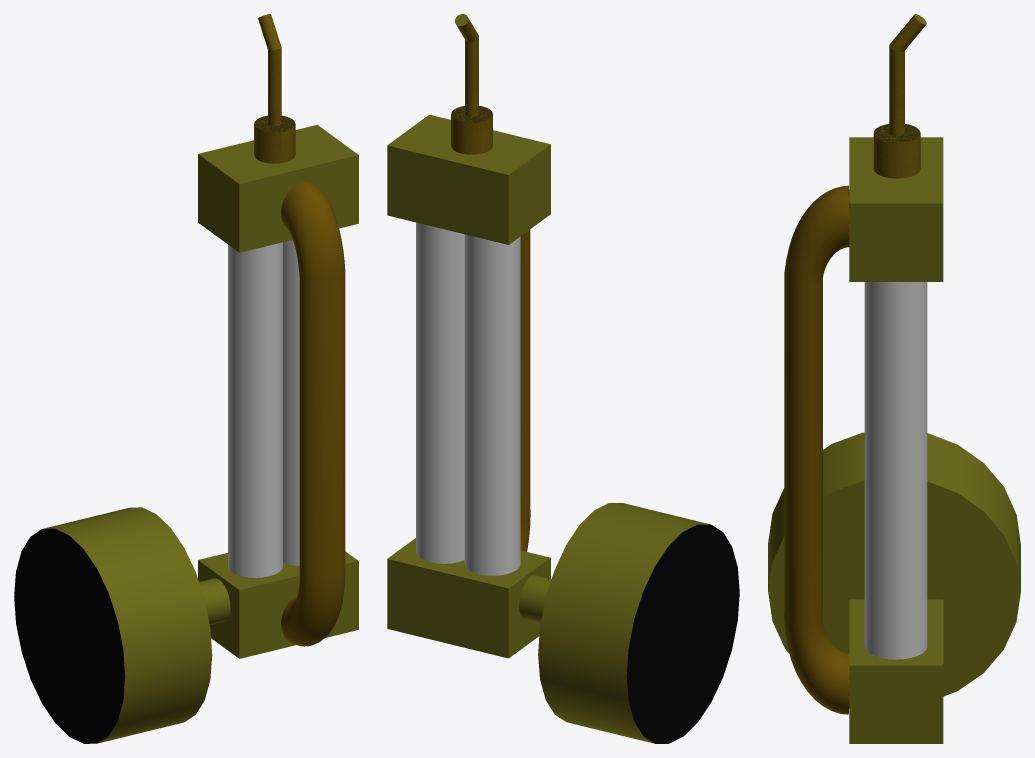
File: torch2.dae
3 views of the same model, side by side, from view 1: azimuth 30°, elevation 25°; view 2: azimuth 150°, elevation 25°; view 3: azimuth 270°, elevation 25° (orthographic). The views are drawn at different scales.
Visible parts, largest first — view 1: SketchUp (×9); view 2: SketchUp (×9); view 3: SketchUp (×8).
Part boxes in pixels (x1,y1,x2,y2): SketchUp (×9): [14, 14, 358, 743]; SketchUp (×9): [387, 18, 739, 743]; SketchUp (×8): [768, 15, 1020, 743].
Size of the model in its own units: 17.76 by 12.69 by 41.95.
